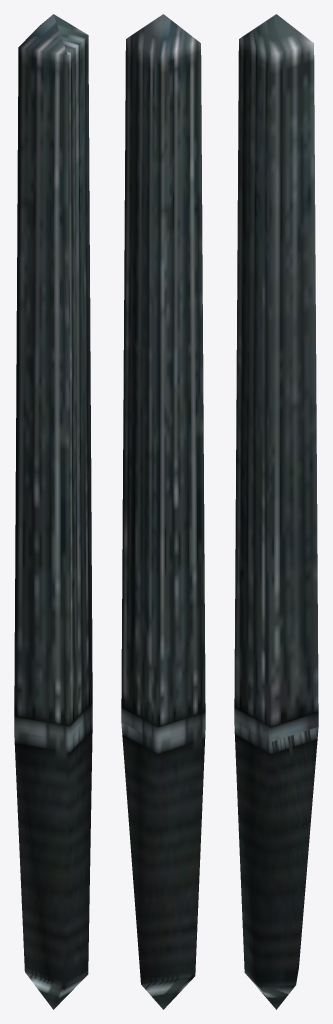
Rendered from wp_mle_baton_stun_l2.fbx.
3 views of the same model, side by side, from view 1: azimuth 90°, elevation 25°; view 2: azimuth 150°, elevation 25°; view 3: azimuth 330°, elevation 25° (orthographic).
Visible parts, largest first — view 1: mesh_node; view 2: mesh_node; view 3: mesh_node.
Part boxes in pixels (left/top/right/bottom): mesh_node: left=14, top=14, right=92, bottom=1009; mesh_node: left=121, top=14, right=205, bottom=1009; mesh_node: left=234, top=14, right=318, bottom=1009.
Size of the model in its own units: 0.0414 by 0.579 by 0.0414.
1 material, 1 textured.
